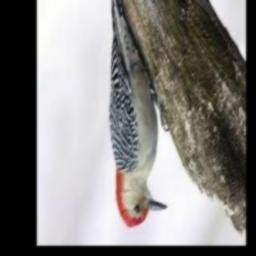Woodpecker: (98, 0, 167, 227)
